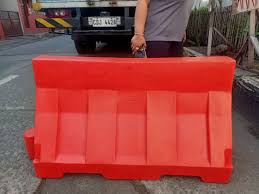barrier: (22, 54, 237, 185)
